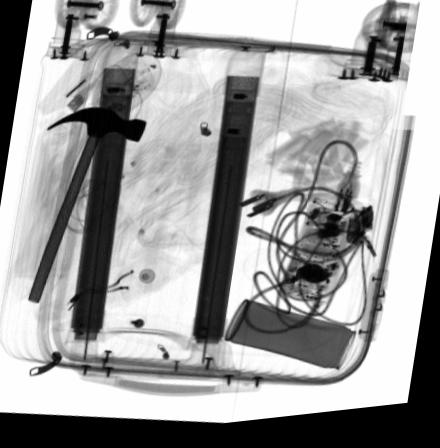Hammer: (26, 108, 145, 304)
